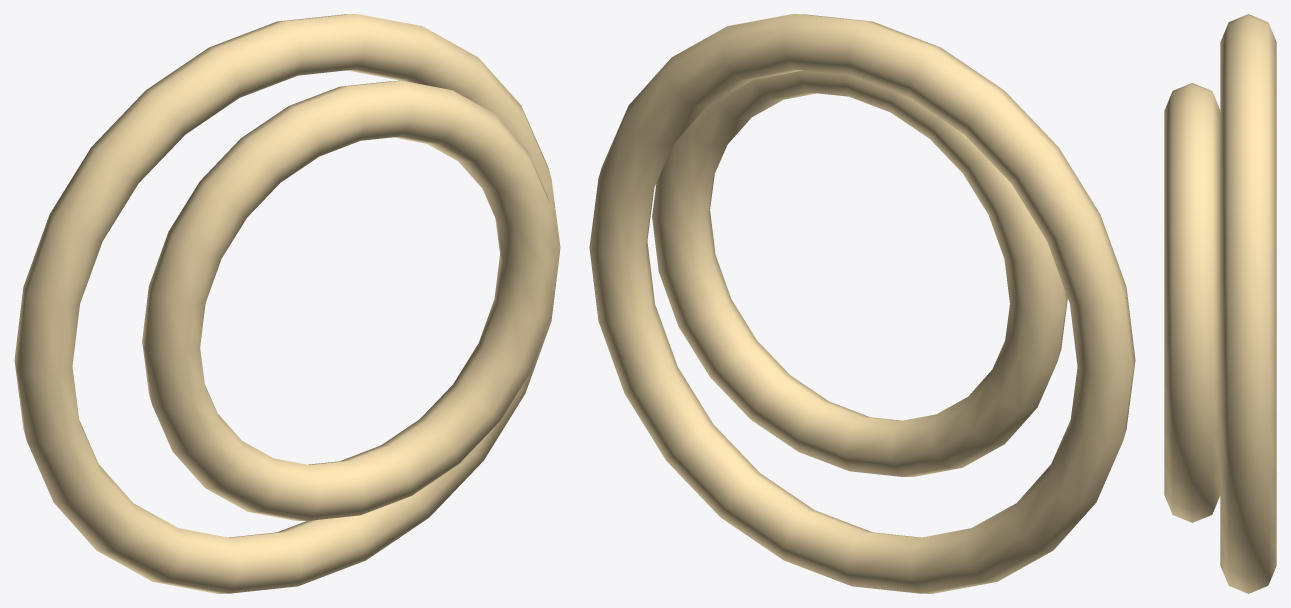
File: drip_m00.obj
3 renders of one model, left to right at view 1: azimuth 30°, elevation 25°; view 2: azimuth 150°, elevation 25°; view 3: azimuth 270°, elevation 25°, orthographic. The views are drawn at different scales.
Parts seen in each view (by area): view 1: coil, coil_in; view 2: coil, coil_in; view 3: coil, coil_in.
Boxes of the visible parts, <box> form: coil: <box>14,14,560,593</box>; coil_in: <box>142,81,557,521</box>; coil: <box>589,14,1135,593</box>; coil_in: <box>652,70,1067,476</box>; coil: <box>1220,14,1276,593</box>; coil_in: <box>1164,83,1220,522</box>.
Size of the model in its own units: 0.332 by 0.332 by 0.064.
1 material, 1 textured.
